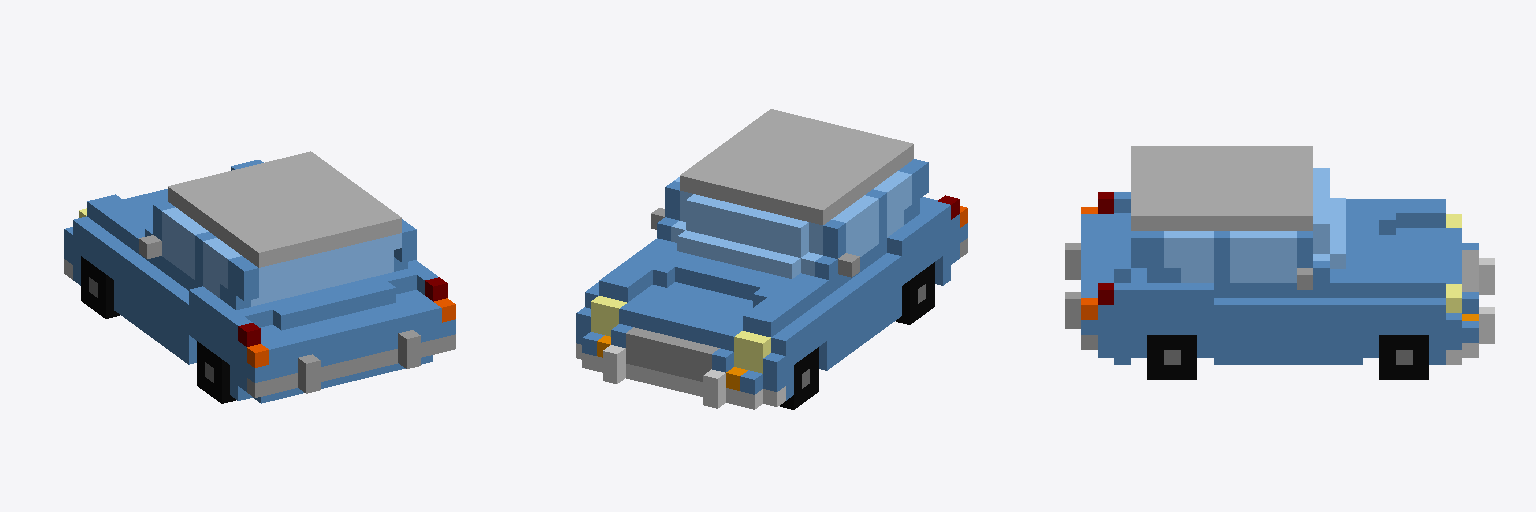
3 renders of one model, left to right at view 1: azimuth 30°, elevation 25°; view 2: azimuth 150°, elevation 25°; view 3: azimuth 270°, elevation 25°, orthographic.
Visible parts, largest first — view 1: object 1; view 2: object 1; view 3: object 1.
Boxes of the visible parts, x1,y1,x2,y2 form: object 1: [64, 151, 455, 403]; object 1: [576, 109, 967, 409]; object 1: [1065, 146, 1494, 379].
Bounding box in the file's own units: 1.4 × 1 × 2.6.
Materials: 1 (1 with a texture image).